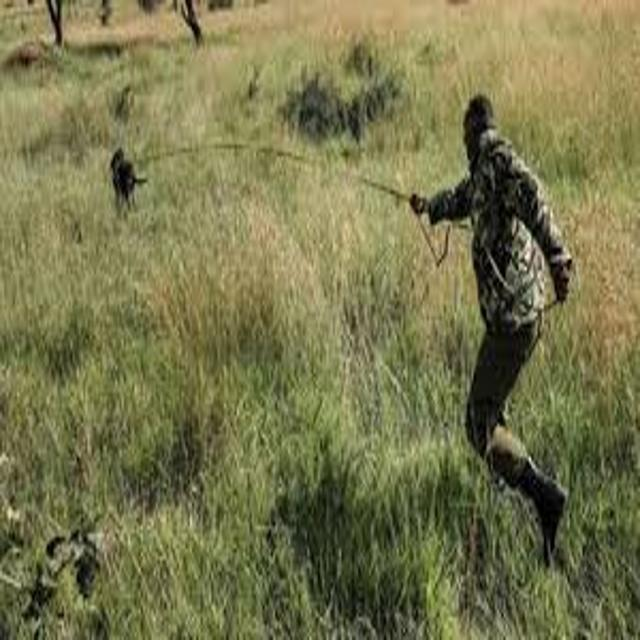dog: (89, 127, 184, 247)
poacher: (374, 74, 635, 600)
